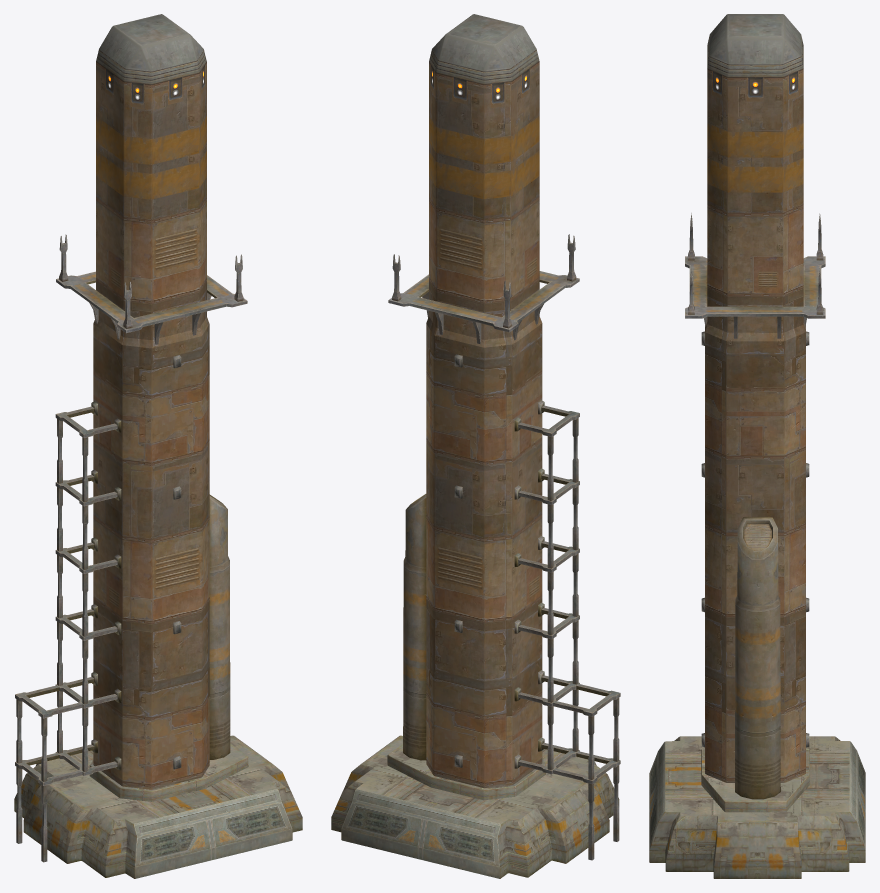
The model's file is hut_arch_industrial_tower_02.glb.
3 views of the same model, side by side, from view 1: azimuth 30°, elevation 25°; view 2: azimuth 150°, elevation 25°; view 3: azimuth 270°, elevation 25° (orthographic).
Parts seen in each view (by area): view 1: hut_arch_industrial_tower_02; view 2: hut_arch_industrial_tower_02; view 3: hut_arch_industrial_tower_02.
Part boxes in pixels (<box>): hut_arch_industrial_tower_02: <box>14,14,302,878</box>; hut_arch_industrial_tower_02: <box>331,14,620,878</box>; hut_arch_industrial_tower_02: <box>649,14,865,878</box>.
Bounding box in the file's own units: 2.32 × 7.2 × 1.78.
Materials: 3 (3 with a texture image).
